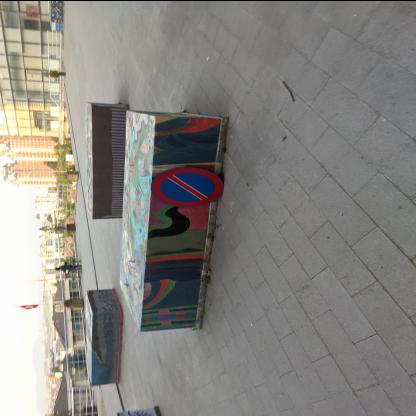No Waiting: (152, 167, 226, 207)
